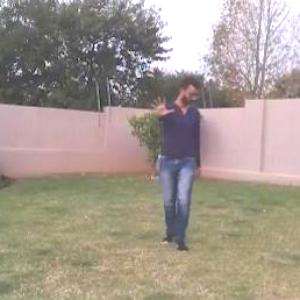follow_hand: (148, 91, 174, 117)
